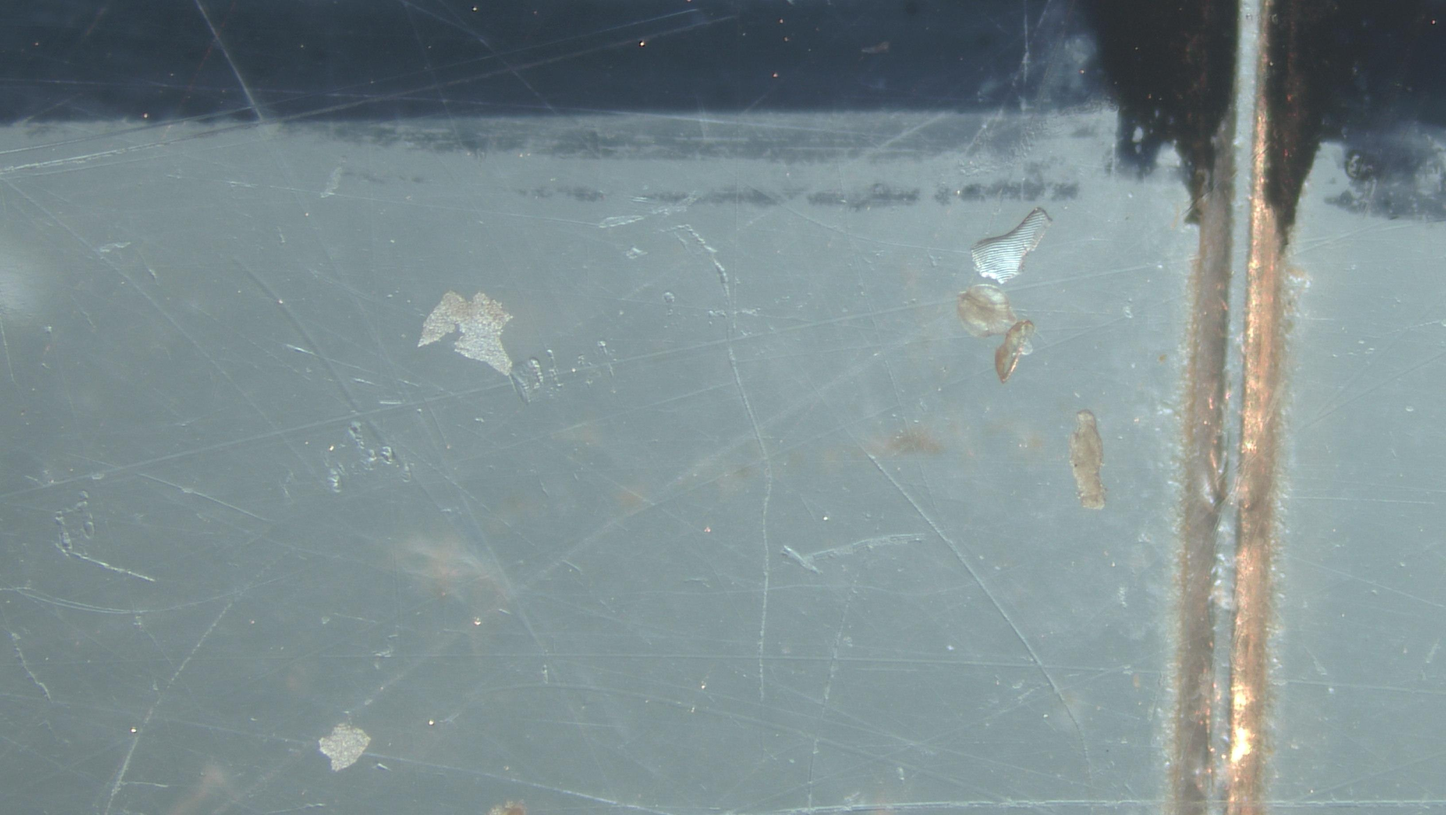live: (957, 284, 1018, 337)
